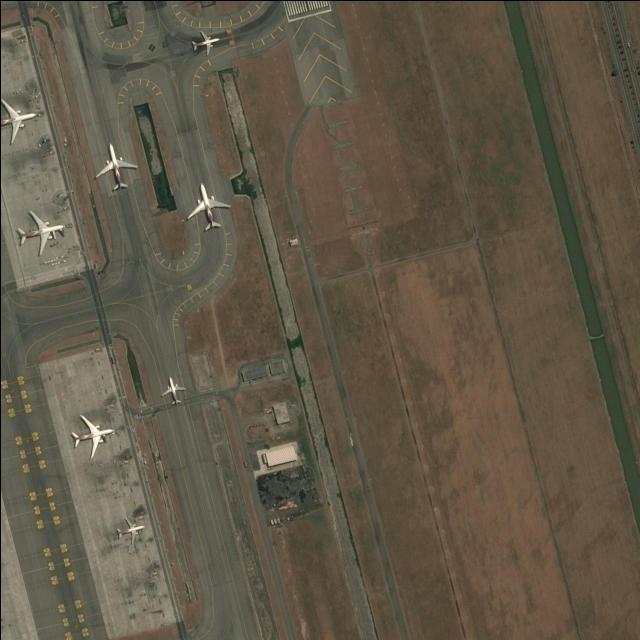Aircraft: (13, 207, 66, 253), (183, 185, 232, 234), (92, 142, 138, 193), (69, 413, 115, 461), (0, 99, 36, 144), (114, 514, 145, 546), (188, 29, 221, 56), (160, 378, 185, 408)
